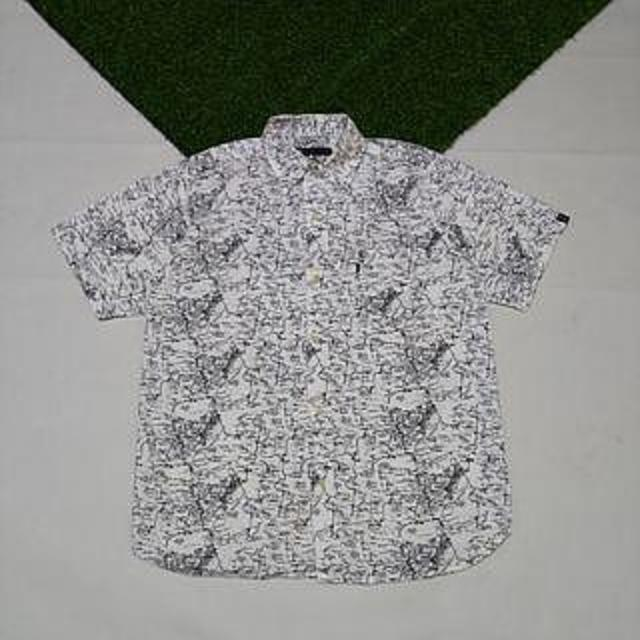SHIRT: (48, 105, 577, 595)
